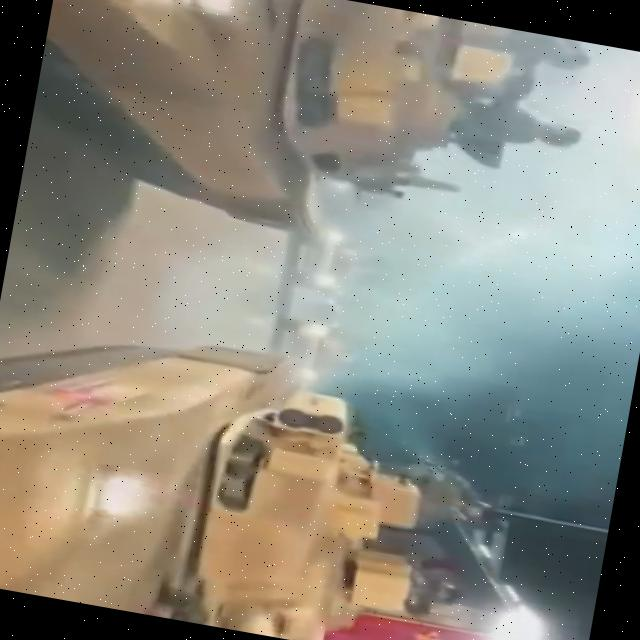north tank: (0, 268, 534, 640), (19, 0, 596, 291)
